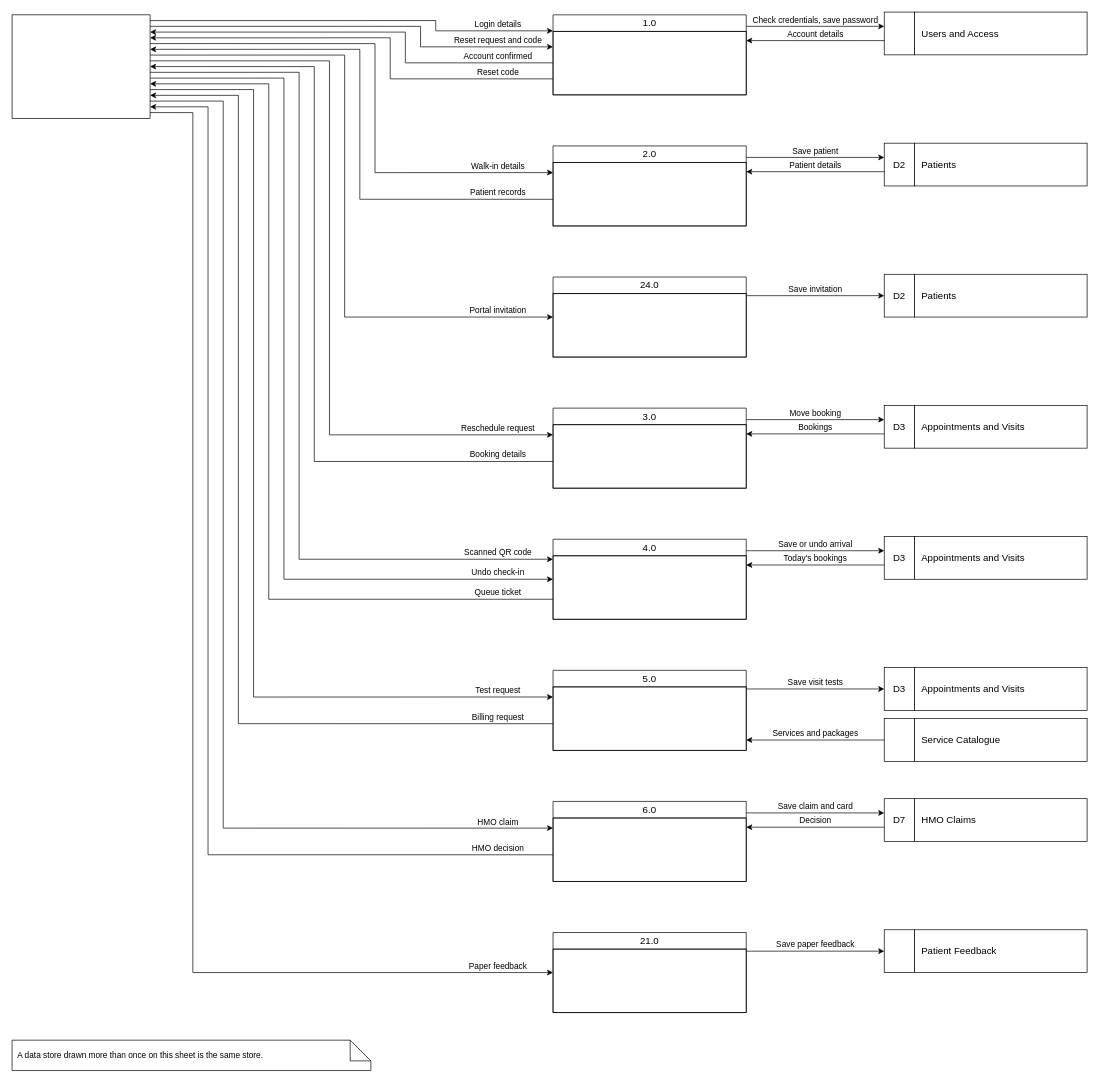
Some shapes in this 1099 by 1083 pixel diagram are drawn without their labels. The shapes that lost their labels are listed below. From the top down, each one's centre as x and y in pixels, then its label:
(899,33): D1
(80,66): Receptionist
(649,63): Manage Login
(649,194): Manage Patient Profiles
(649,325): Manage Portal Access
(649,456): Manage Appointments
(649,587): Check In and Issue Ticket
(649,718): Manage Test Requests
(899,739): D5
(649,849): Record HMO Claim
(899,951): D10
(649,980): Manage Patient Feedback
